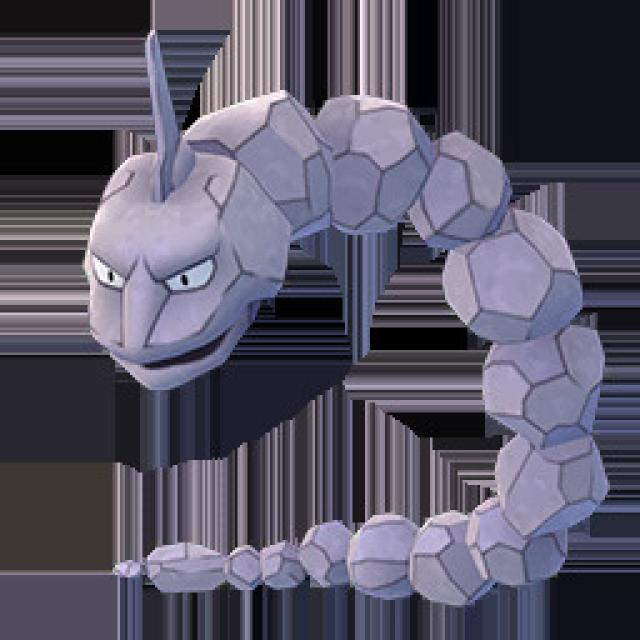Onix: (84, 28, 594, 602)
